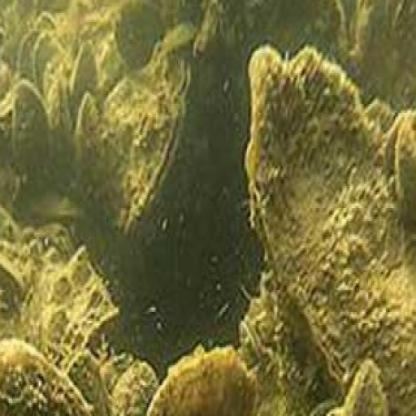3: (308, 354, 392, 416), (384, 107, 416, 226), (37, 13, 59, 31)
Oyster-Closed: (97, 48, 193, 243), (67, 36, 97, 120), (30, 31, 64, 97), (52, 77, 75, 169), (12, 31, 42, 84)
Oyster-Open: (249, 54, 416, 416), (146, 353, 265, 416), (0, 341, 85, 416), (13, 82, 52, 176), (117, 0, 164, 66), (72, 90, 98, 187)
